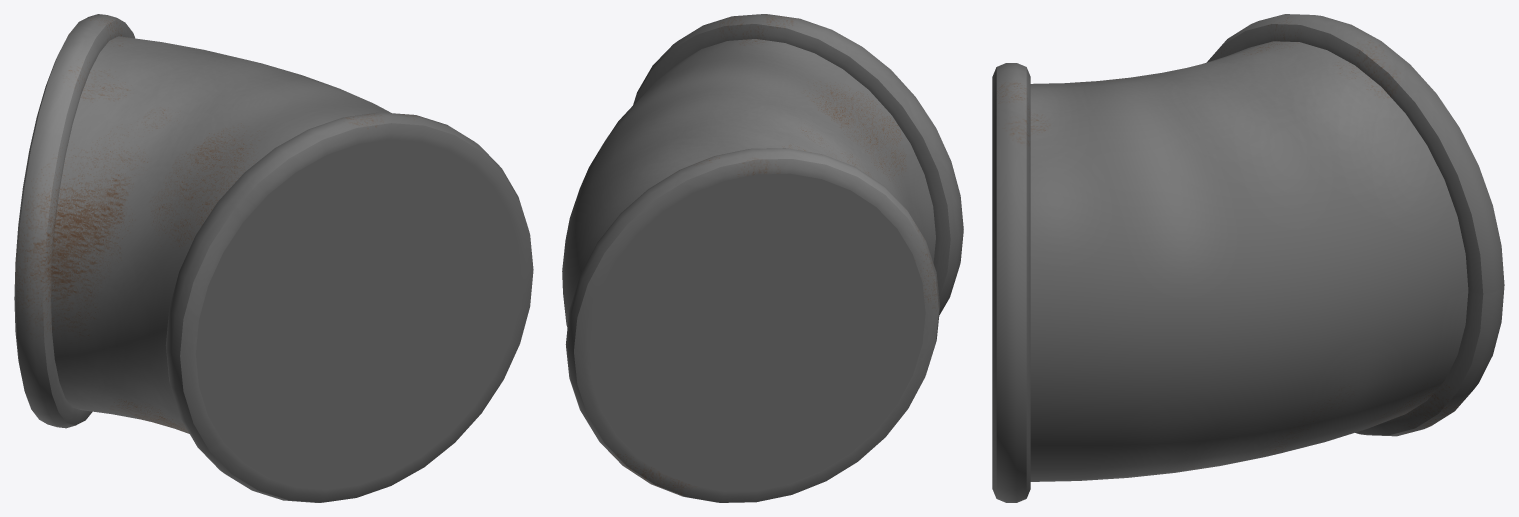
The model's file is Pipe_45.fbx.
3 views of the same model, side by side, from view 1: azimuth 30°, elevation 25°; view 2: azimuth 150°, elevation 25°; view 3: azimuth 270°, elevation 25° (orthographic). The views are drawn at different scales.
Visible parts, largest first — view 1: 45_Pipe; view 2: 45_Pipe; view 3: 45_Pipe.
Part boxes in pixels (box(x1,y1,x2,y2)): 45_Pipe: box(14, 14, 533, 502); 45_Pipe: box(562, 14, 963, 502); 45_Pipe: box(992, 14, 1504, 502).
Bounding box in the file's own units: 261 × 221 × 257.
